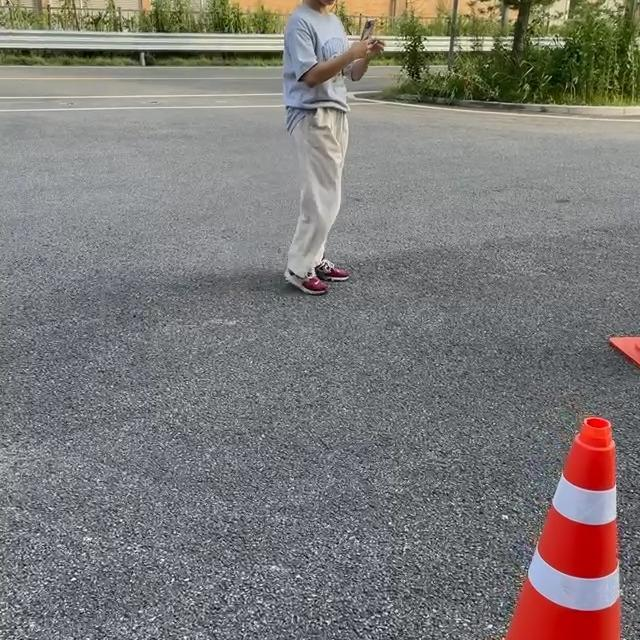fallen_object: (476, 400, 640, 640)
